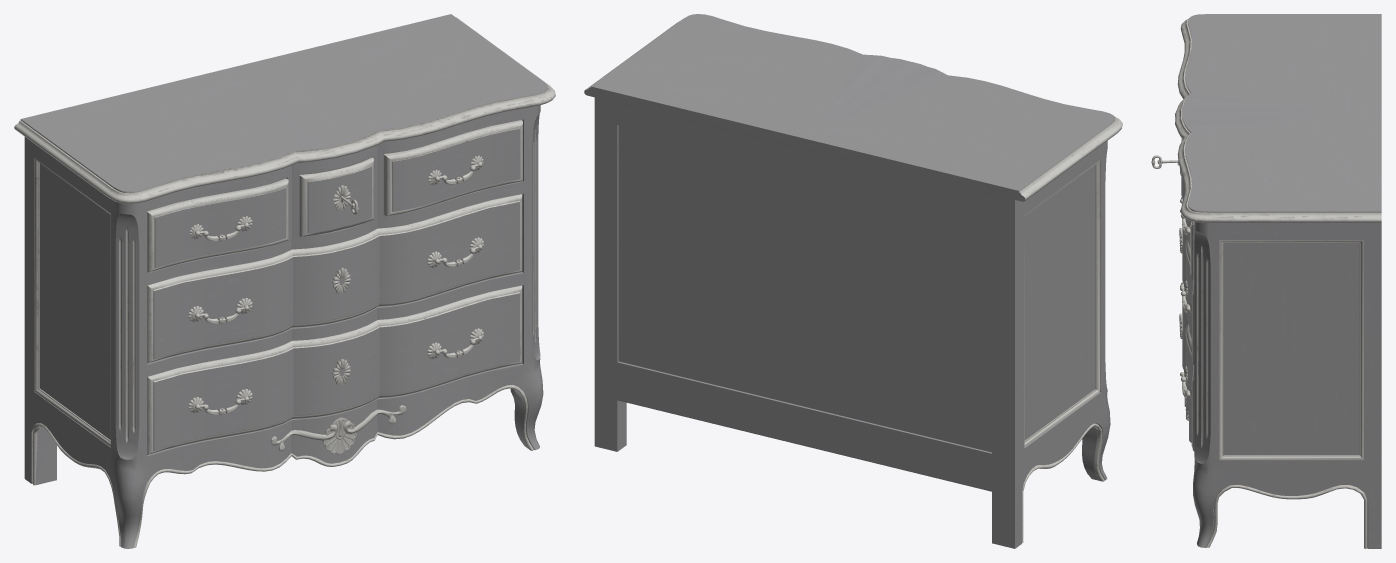
Rendered from example163.glb.
3 views of the same model, side by side, from view 1: azimuth 30°, elevation 25°; view 2: azimuth 150°, elevation 25°; view 3: azimuth 270°, elevation 25° (orthographic). The views are drawn at different scales.
Visible parts, largest first — view 1: Buffer Layer (×3); view 2: Buffer Layer; view 3: Buffer Layer (×2).
Part boxes in pixels (box(x1,y1,x2,y2)): Buffer Layer (×3): box(14, 14, 555, 548); Buffer Layer: box(584, 14, 1122, 548); Buffer Layer (×2): box(1151, 14, 1381, 548).
Size of the model in its own units: 1.15 by 0.8946 by 0.5499.
Materials: 2 (2 with a texture image).
